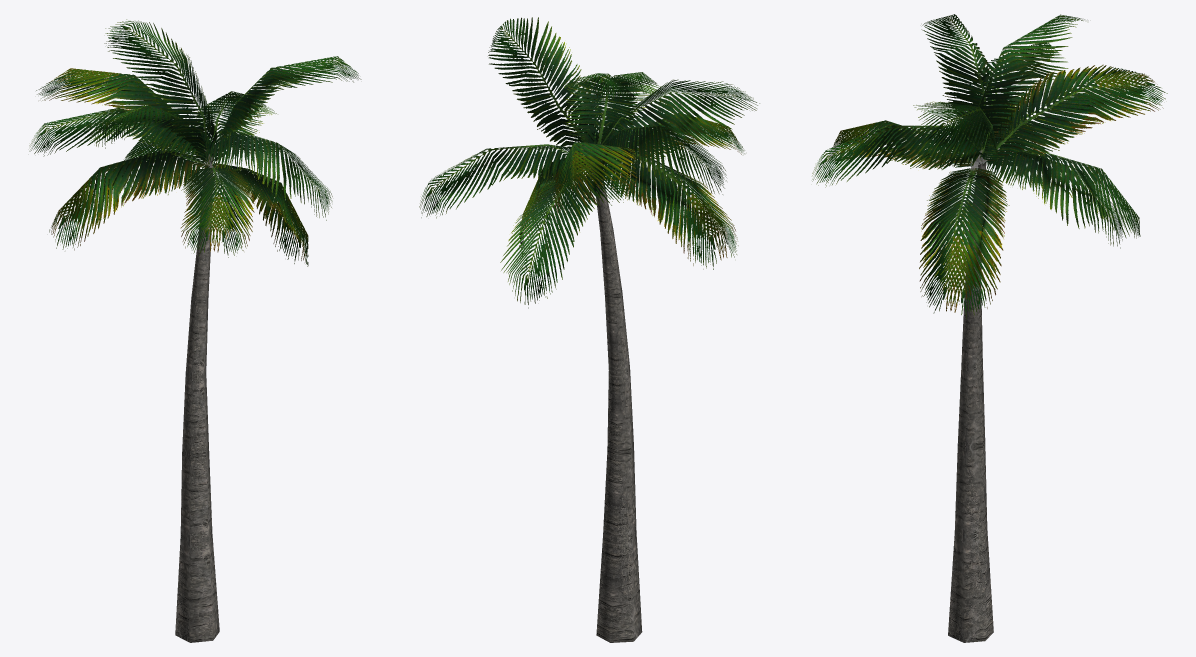
The model's file is obj__plamt3.obj.
The picture shows the model from 3 angles, left to right: view 1: azimuth 30°, elevation 25°; view 2: azimuth 150°, elevation 25°; view 3: azimuth 270°, elevation 25°; orthographic projection. The views are drawn at different scales.
Parts seen in each view (by area): view 1: palmt3.tga; view 2: palmt3.tga; view 3: palmt3.tga.
Boxes of the visible parts, x1,y1,x2,y2 form: palmt3.tga: [29, 19, 361, 642]; palmt3.tga: [419, 17, 759, 642]; palmt3.tga: [812, 14, 1167, 642].
Size of the model in its own units: 191 by 356 by 202.
Materials: 1 (1 with a texture image).
